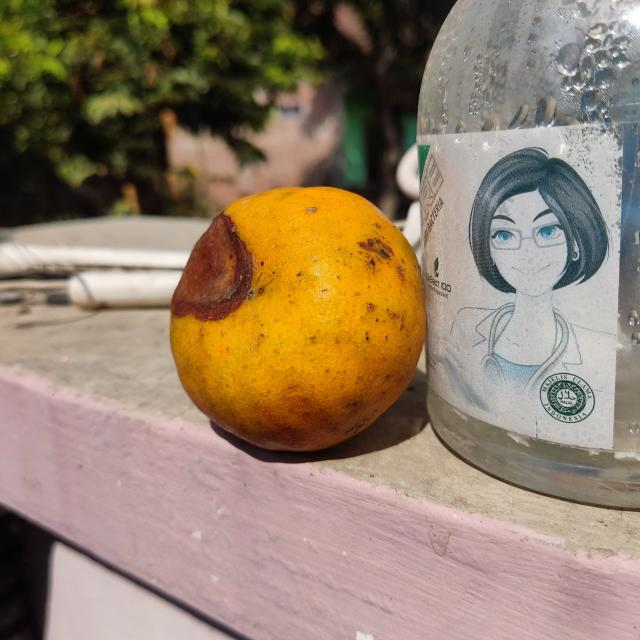orange: (165, 184, 428, 452)
